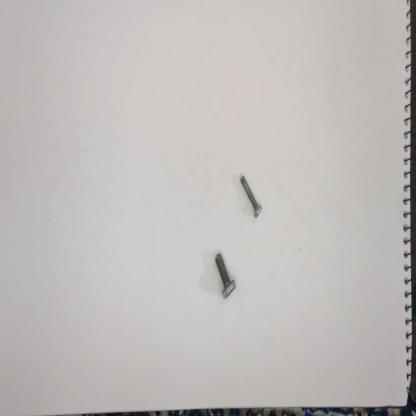Bolts: (211, 252, 241, 303), (239, 174, 266, 222)
